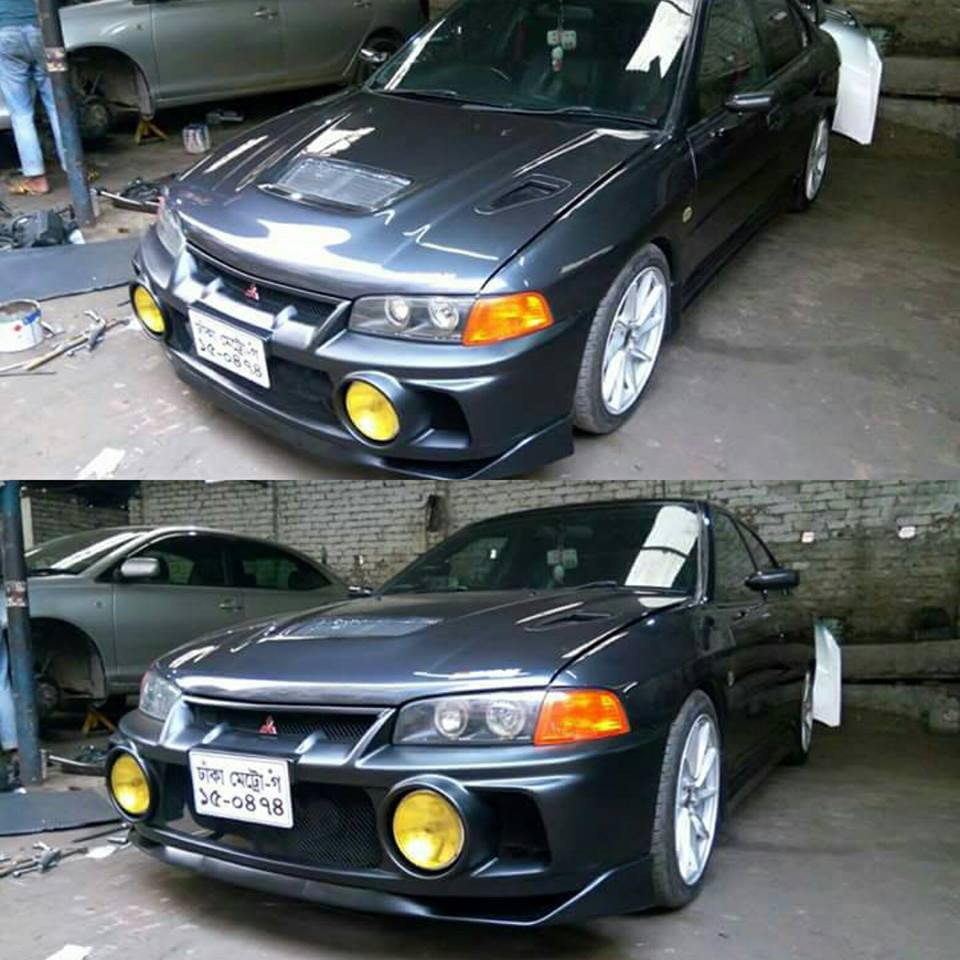registration_plate: (187, 745, 294, 831), (186, 305, 275, 392)
